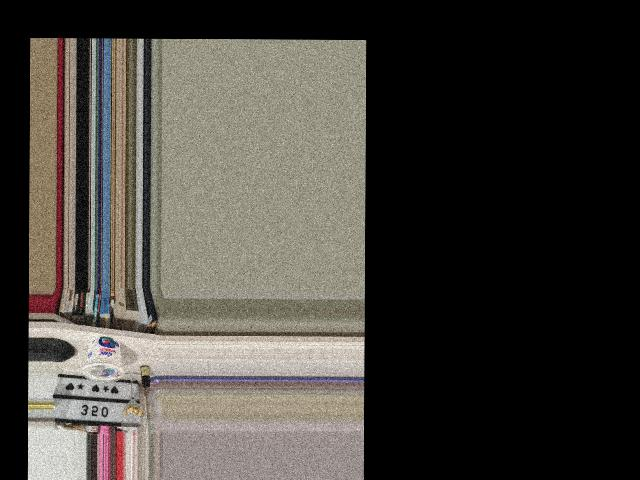cotage: (85, 333, 121, 383)
